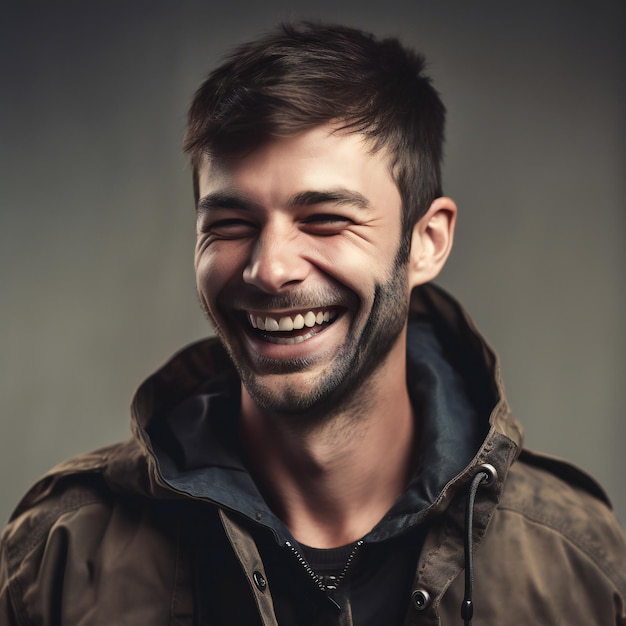young: (173, 35, 459, 423)
